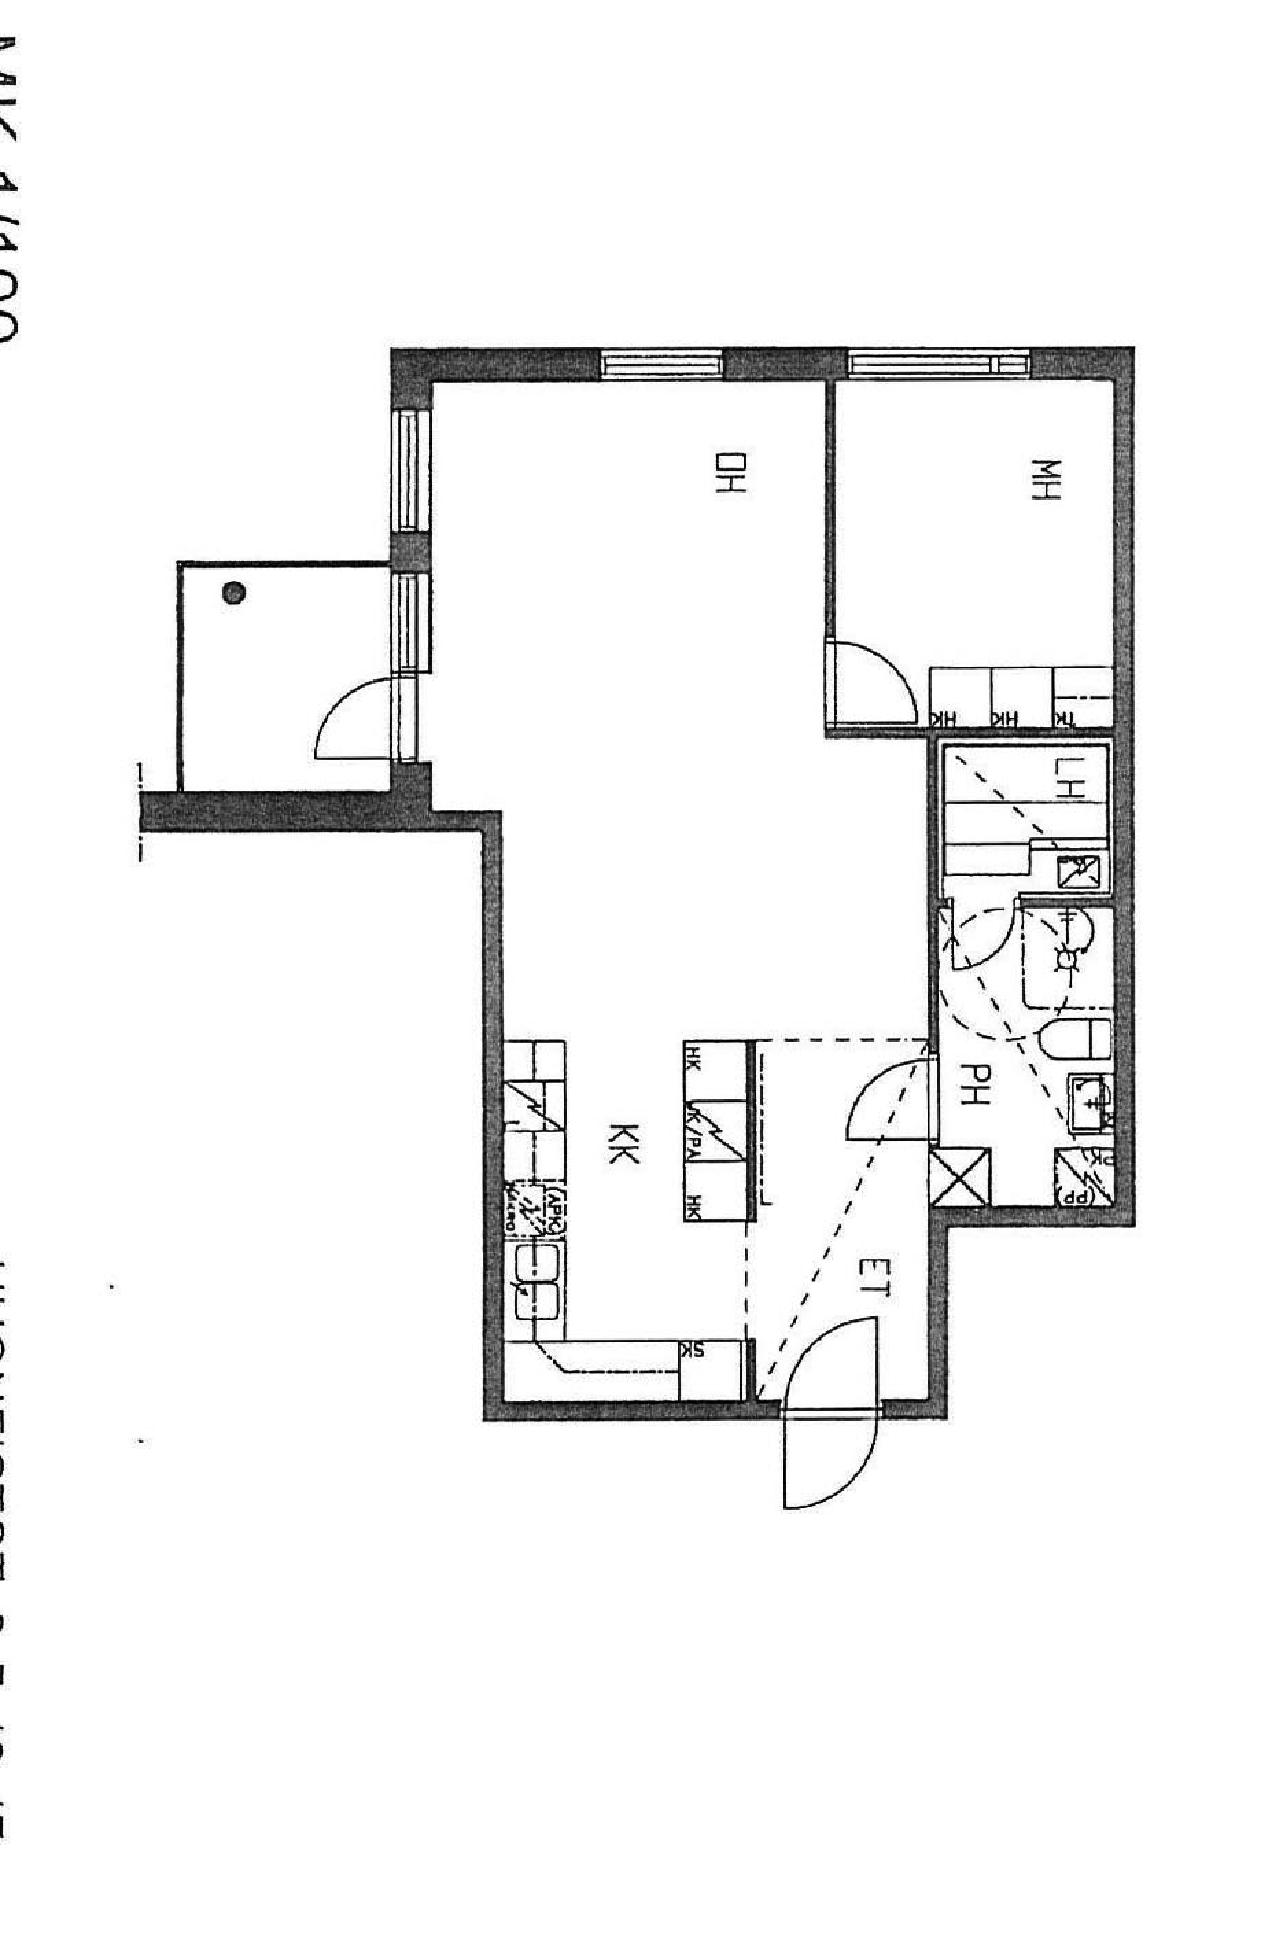door: (780, 1314, 890, 1521), (311, 674, 427, 766), (824, 636, 927, 736), (843, 1059, 940, 1146), (945, 896, 1013, 973)
window: (845, 343, 1027, 374), (390, 403, 430, 527), (387, 567, 428, 664), (603, 346, 720, 377)
zone: (431, 379, 927, 1406), (830, 379, 1108, 726), (937, 736, 1114, 1201), (180, 561, 388, 796)
